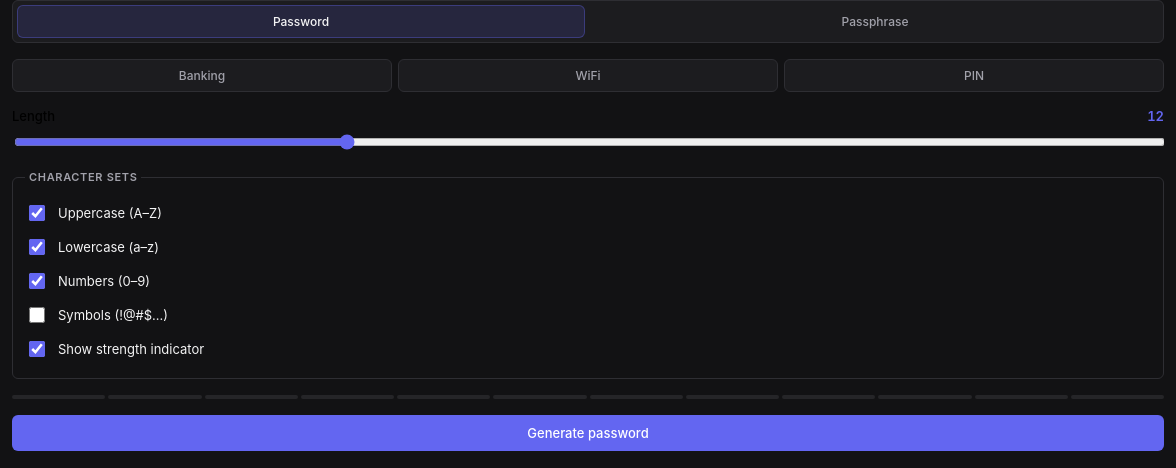
Scenario: PasswordGeneratorForm (UI-GEN) › UI-GEN-10: shows word count slider in passphrase mode
Click the button "Passphrase" at (875, 22), box [591,5,1159,38]
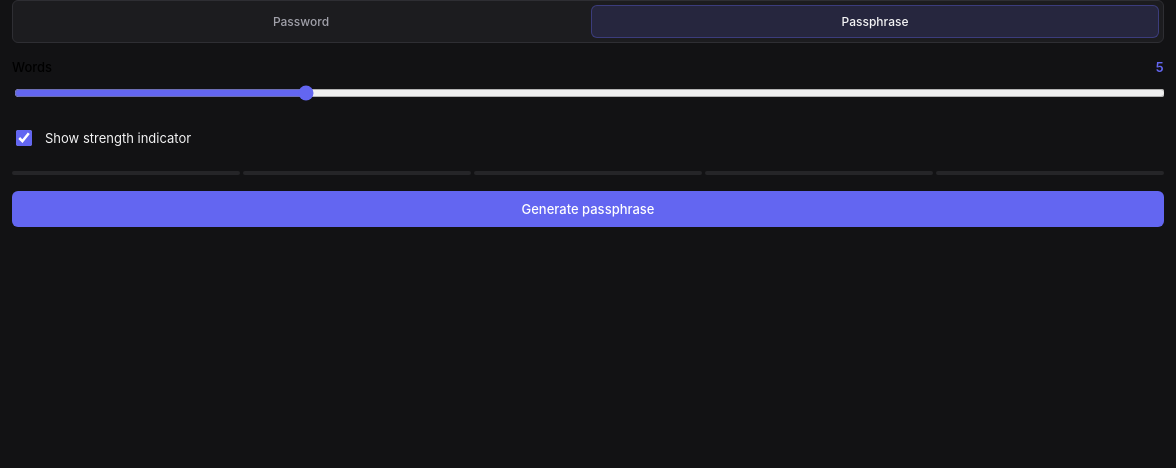
Expected: the text "Character sets" is gone
